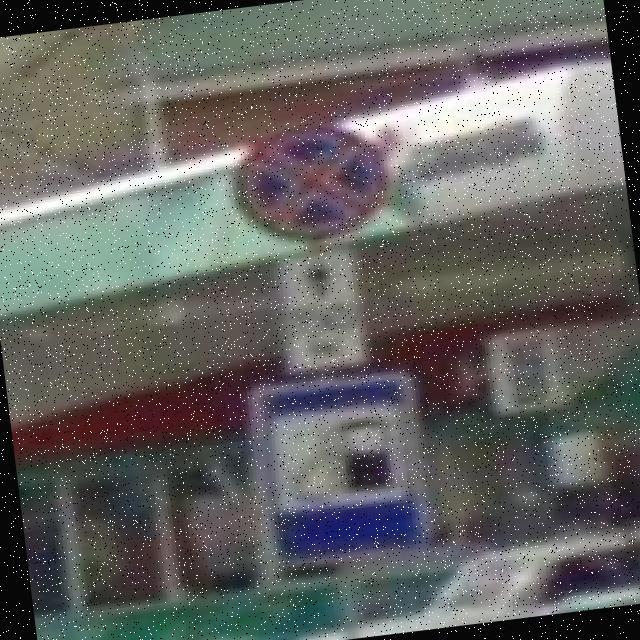Zakaz zatrzymywania sie: (226, 114, 395, 248)
